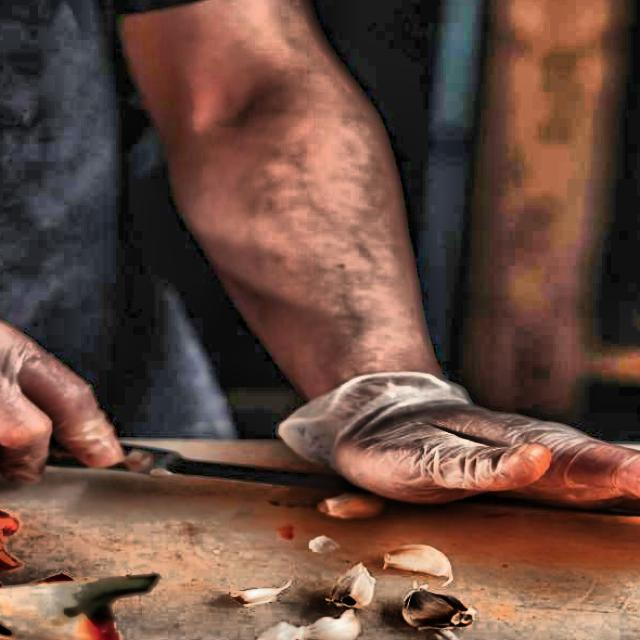knife: (39, 427, 392, 485)
